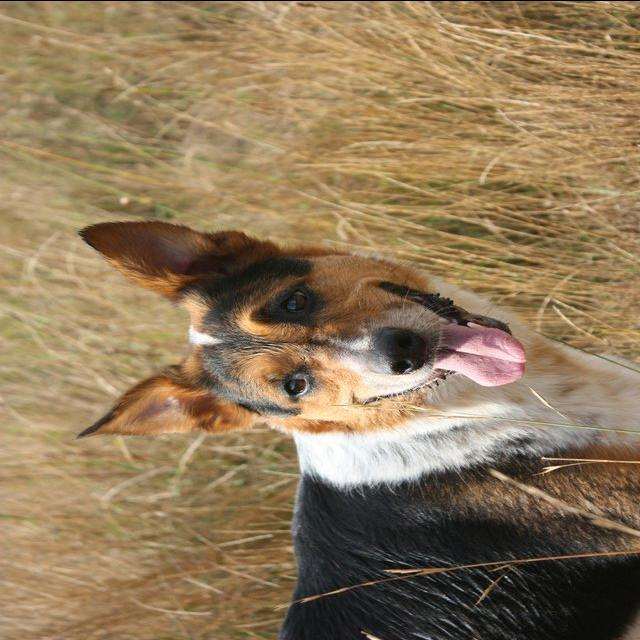corgi: (73, 216, 639, 639)
